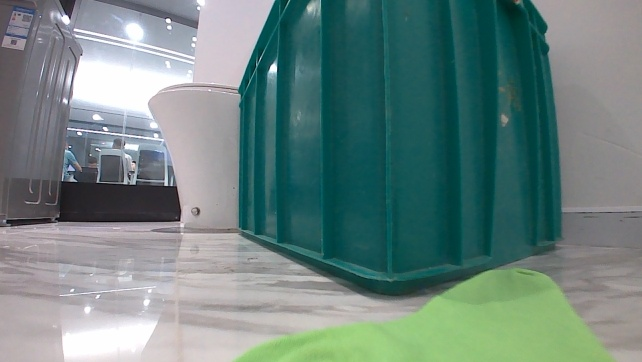socks: (231, 265, 614, 361)
toilet: (140, 80, 239, 230)
washing_machine1: (0, 0, 87, 228)
